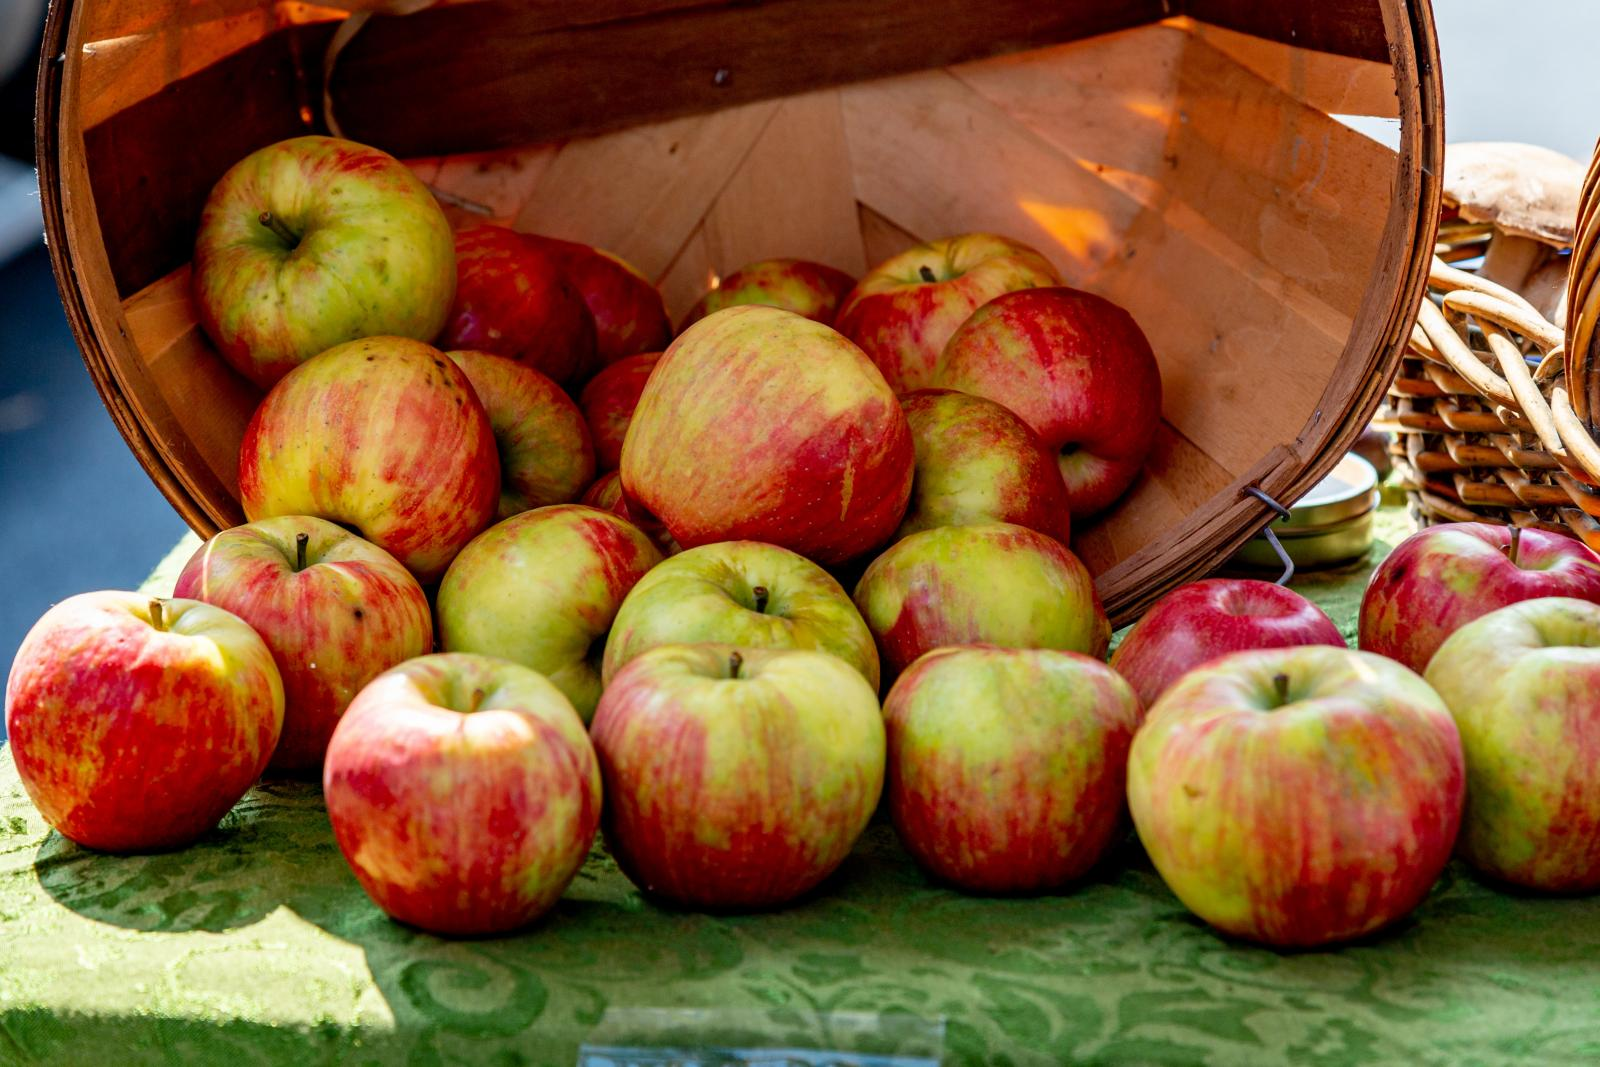apple: (1129, 643, 1464, 951), (326, 656, 620, 932), (6, 593, 290, 857), (625, 300, 904, 569), (594, 647, 885, 901), (176, 514, 429, 770), (886, 638, 1135, 890), (194, 138, 449, 372), (238, 348, 486, 582)
